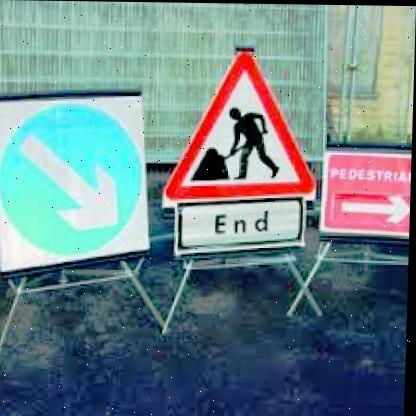Keep right: (0, 96, 156, 258)
